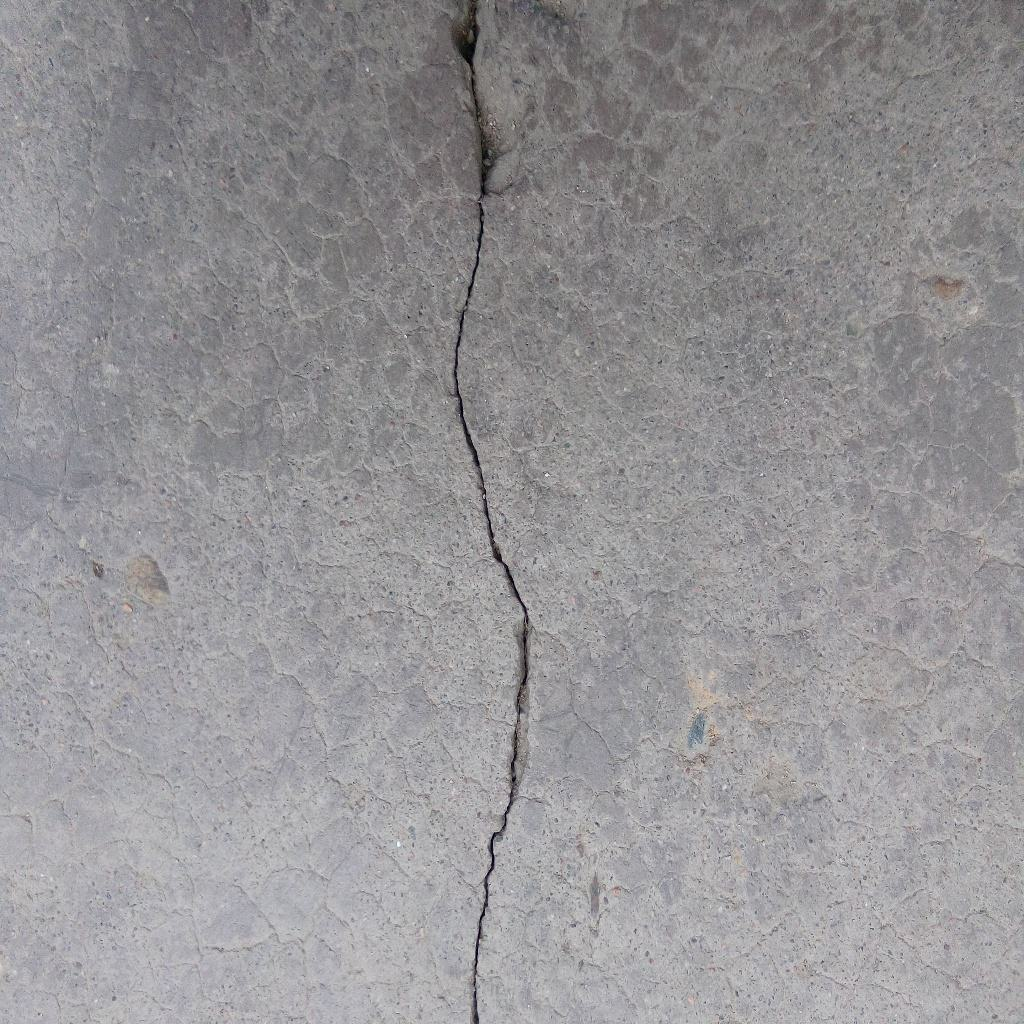Crack: (453, 1, 534, 1024)
